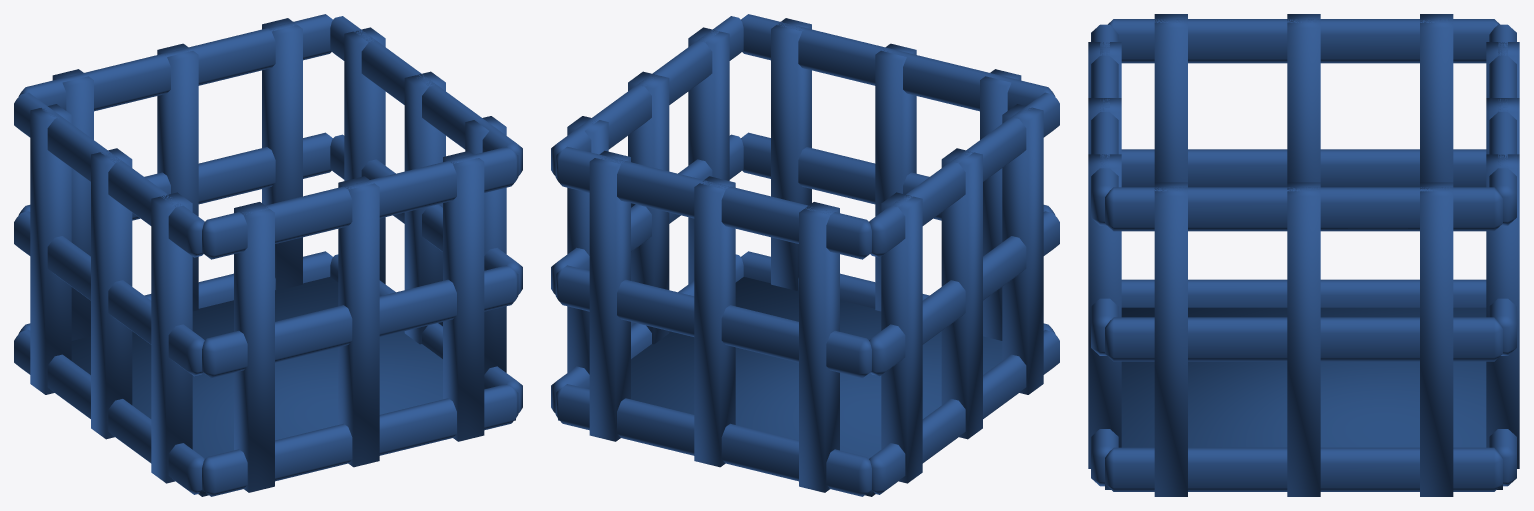
Rendered from milk_crate.glb.
3 renders of one model, left to right at view 1: azimuth 30°, elevation 25°; view 2: azimuth 150°, elevation 25°; view 3: azimuth 270°, elevation 25°, orthographic. The views are drawn at different scales.
Visible parts, largest first — view 1: milk_crate; view 2: milk_crate; view 3: milk_crate.
Boxes of the visible parts, x1,y1,x2,y2 form: milk_crate: [14, 14, 522, 496]; milk_crate: [551, 14, 1059, 496]; milk_crate: [1088, 14, 1519, 496].
Size of the model in its own units: 0.39 by 0.3 by 0.39.
